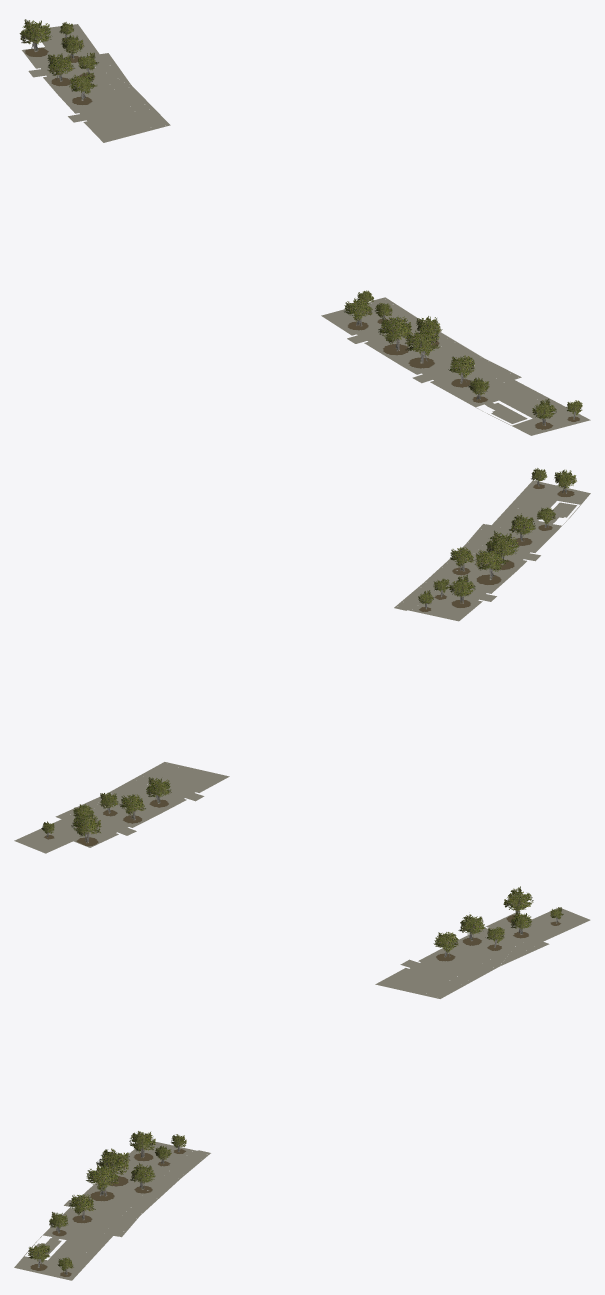
3 views of the same model, one above another, from view 1: azimuth 30°, elevation 25°; view 2: azimuth 150°, elevation 25°; view 3: azimuth 330°, elevation 25° (orthographic). The views are drawn at different scales.
Visible parts, largest first — view 1: Distant garden paths, SkyPark distant crowns; view 2: Distant garden paths, SkyPark distant crowns; view 3: Distant garden paths, SkyPark distant crowns.
Boxes of the visible parts, <box> form: Distant garden paths: <box>22,24,590,435</box>; SkyPark distant crowns: <box>19,19,582,425</box>; Distant garden paths: <box>14,480,590,853</box>; SkyPark distant crowns: <box>41,468,576,843</box>; Distant garden paths: <box>14,907,590,1280</box>; SkyPark distant crowns: <box>28,886,563,1274</box>.
Size of the model in its own units: 27.74 by 8.07 by 216.
Materials: 2 (2 with a texture image).
